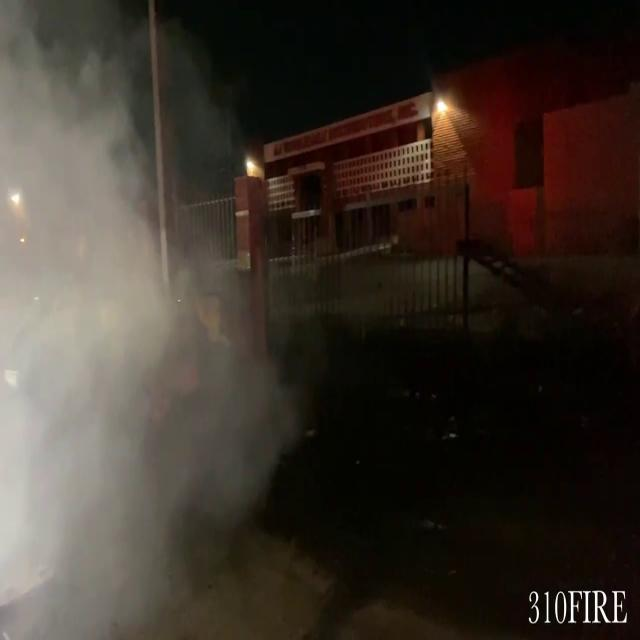Smoke: (0, 2, 285, 634)
